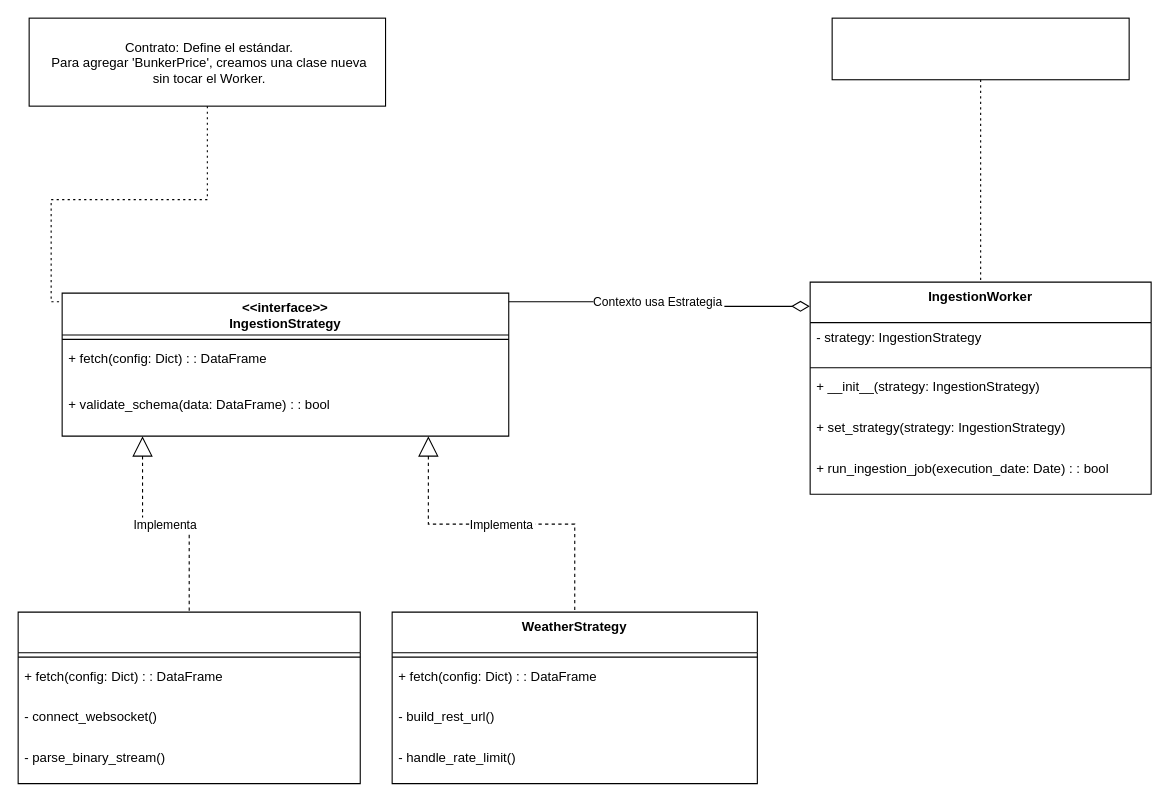
Image size: 1169x802. Some labels were removed from this diagram. Here are the shapes that lost their labels. From the top down, the box of each, then its label:
(831, 17, 1129, 80): Contexto: No sabe si conecta a Clima o AIS. Solo llama a fetch().
(17, 611, 360, 784): AisStrategy
